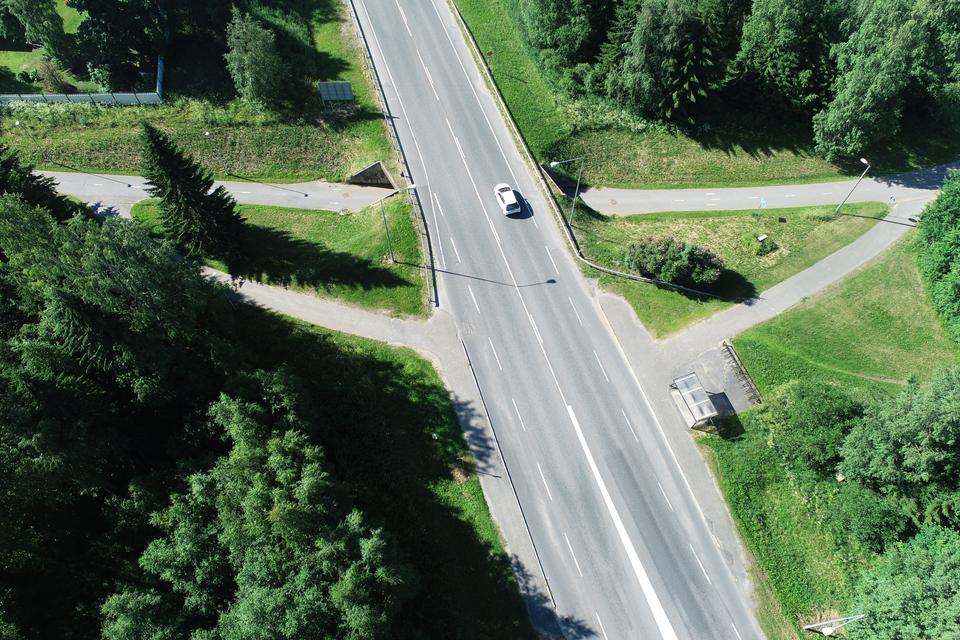intersection: (348, 261, 542, 421), (601, 263, 775, 437), (824, 120, 960, 261)
